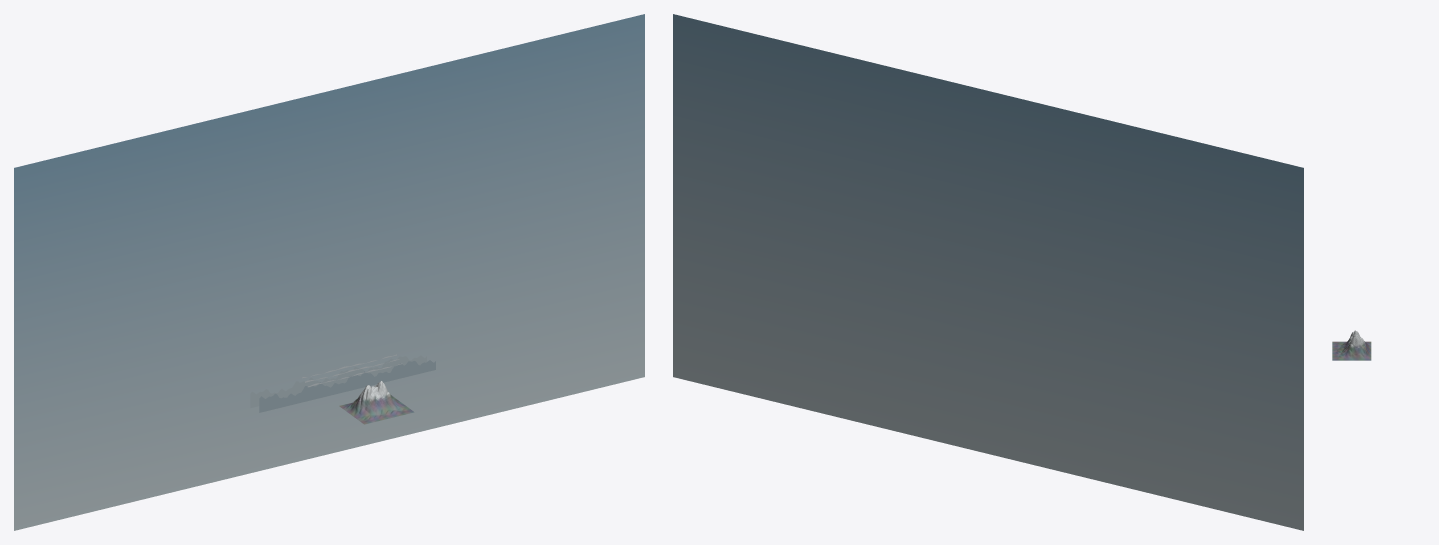
Rendered from elbrus_terrain.glb.
The picture shows the model from 3 angles, left to right: view 1: azimuth 30°, elevation 25°; view 2: azimuth 150°, elevation 25°; view 3: azimuth 270°, elevation 25°; orthographic projection. The views are drawn at different scales.
Visible parts, largest first — view 1: sky, distant, terrain, distant_haze; view 2: sky; view 3: terrain.
Boxes of the visible parts, box(x1,y1,x2,y2) form: sky: box(14, 14, 644, 530); distant: box(259, 360, 435, 412); terrain: box(339, 381, 414, 424); distant_haze: box(250, 355, 426, 408); sky: box(673, 14, 1303, 530); terrain: box(1332, 330, 1371, 360).
Bounding box in the file's own units: 200 × 110 × 33.
